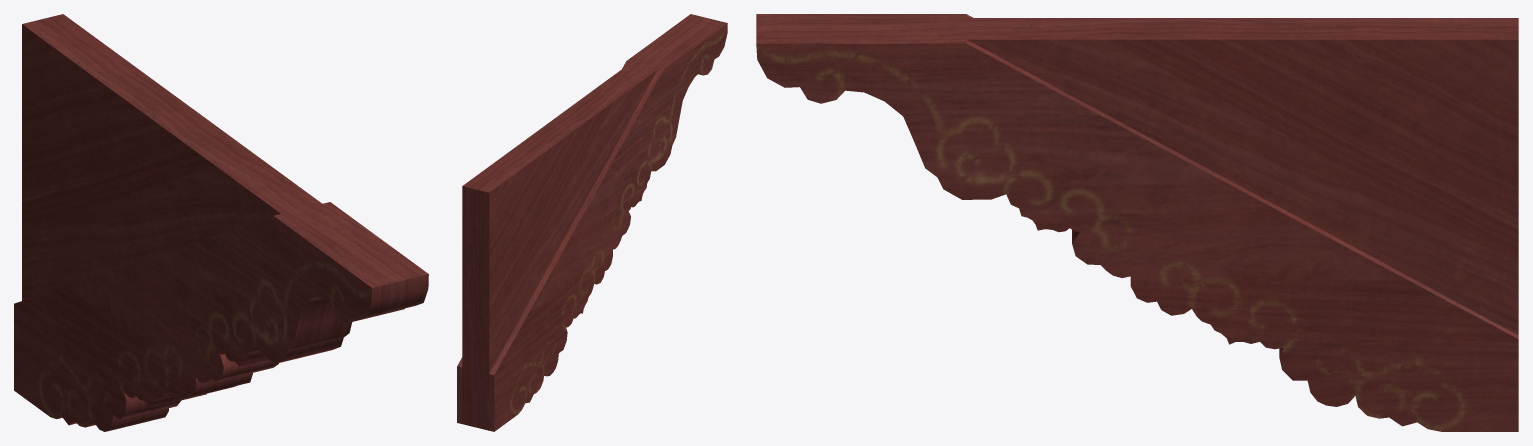
The model's file is SM_Panelboard10A.fbx.
The picture shows the model from 3 angles, left to right: view 1: azimuth 30°, elevation 25°; view 2: azimuth 150°, elevation 25°; view 3: azimuth 270°, elevation 25°; orthographic projection. The views are drawn at different scales.
Visible parts, largest first — view 1: SM_Panelboard10A; view 2: SM_Panelboard10A; view 3: SM_Panelboard10A.
Part boxes in pixels (x1,y1,x2,y2): SM_Panelboard10A: (14, 14, 428, 431); SM_Panelboard10A: (457, 14, 727, 431); SM_Panelboard10A: (756, 14, 1518, 431).
Bounding box in the file's own units: 12.32 × 134 × 75.49.
